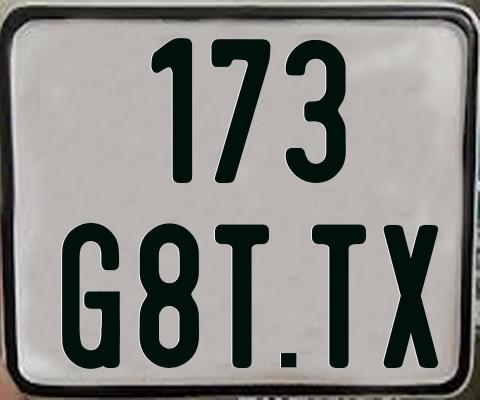1: (148, 37, 195, 184)
3: (286, 37, 349, 181)
7: (208, 39, 268, 189)
8: (138, 221, 202, 366)
G: (59, 221, 118, 368)
T: (212, 223, 270, 371), (309, 223, 367, 367)
X: (382, 224, 439, 370)
